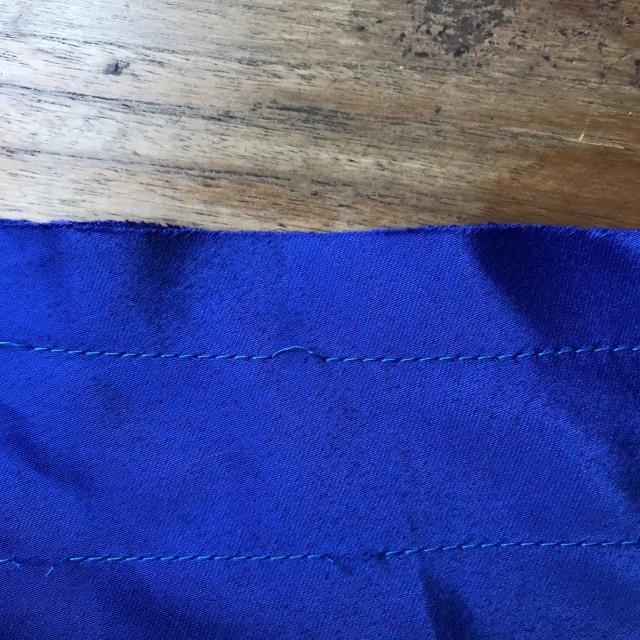broken: (299, 532, 437, 596), (1, 525, 91, 590)
good: (91, 332, 187, 374)
skip: (252, 326, 354, 384)
